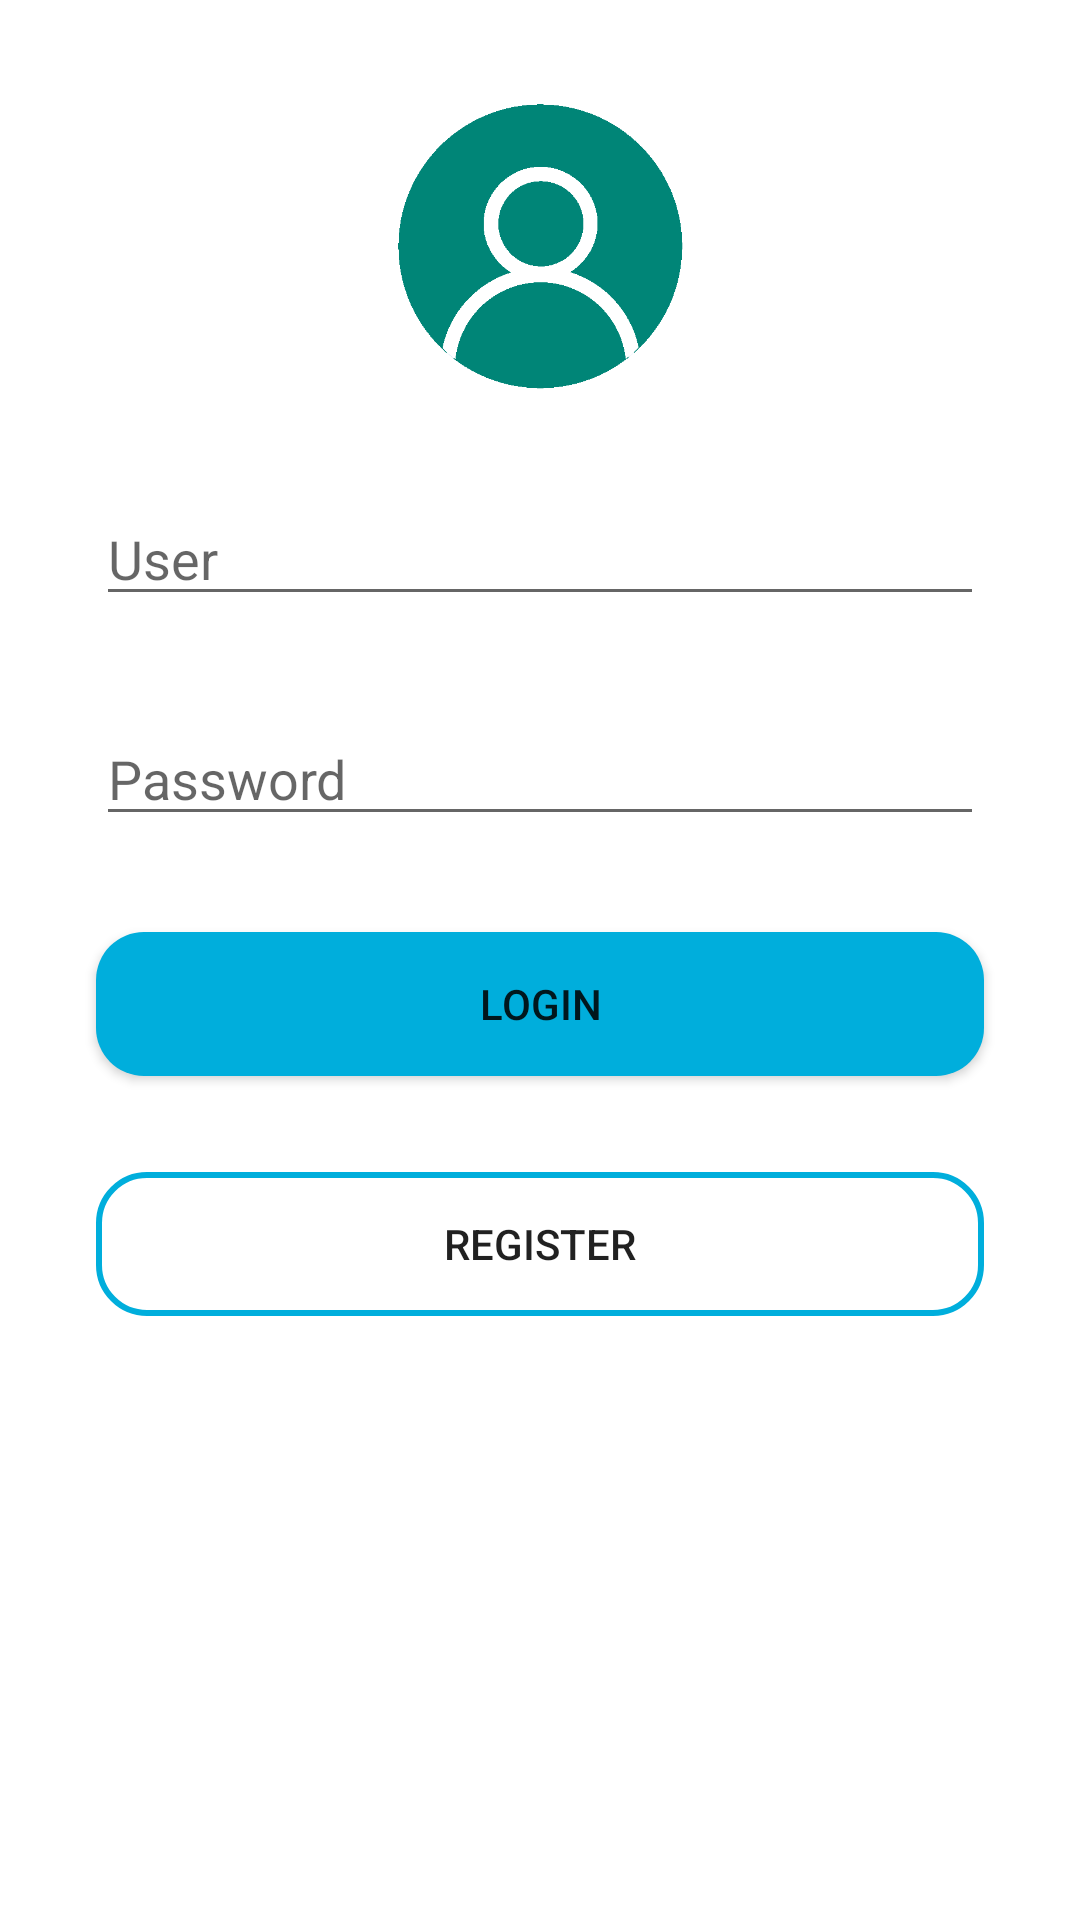

Locate icon controls on the screen. Image size 1080x1920, boxes as (x1, y1, x2, y2).
loginicon: (398, 104, 683, 389)
